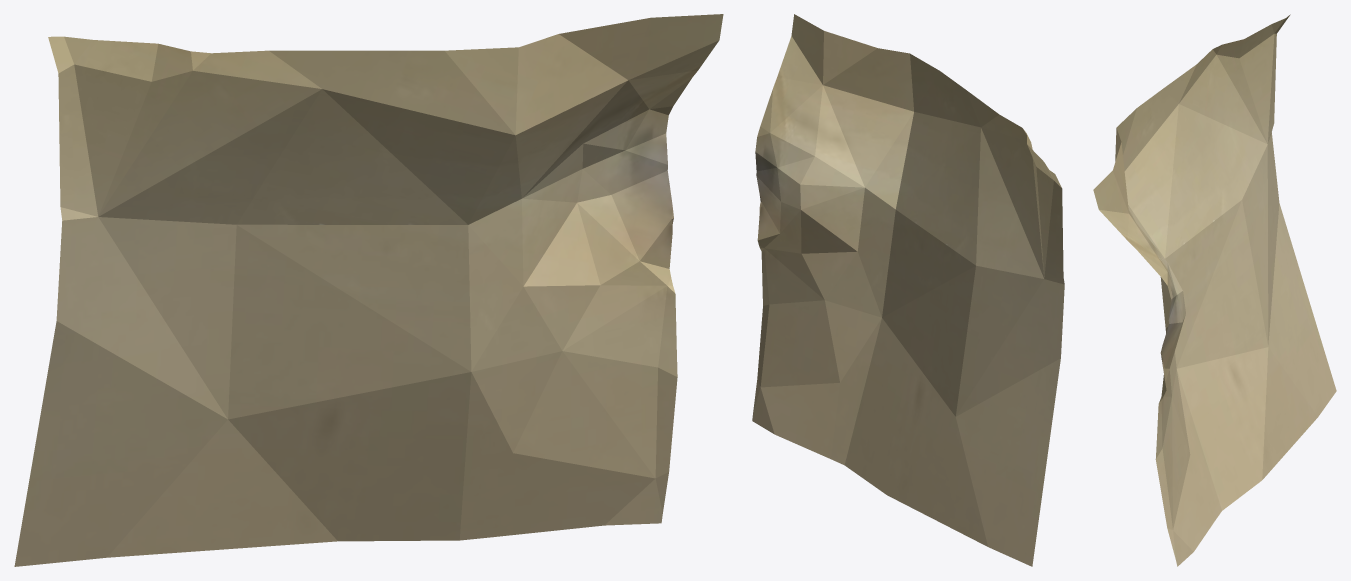
3 renders of one model, left to right at view 1: azimuth 30°, elevation 25°; view 2: azimuth 150°, elevation 25°; view 3: azimuth 270°, elevation 25°, orthographic. The views are drawn at different scales.
Bounding box in the file's own units: 0.8374 × 0.8374 × 0.4898.
3 materials, 3 textured.
